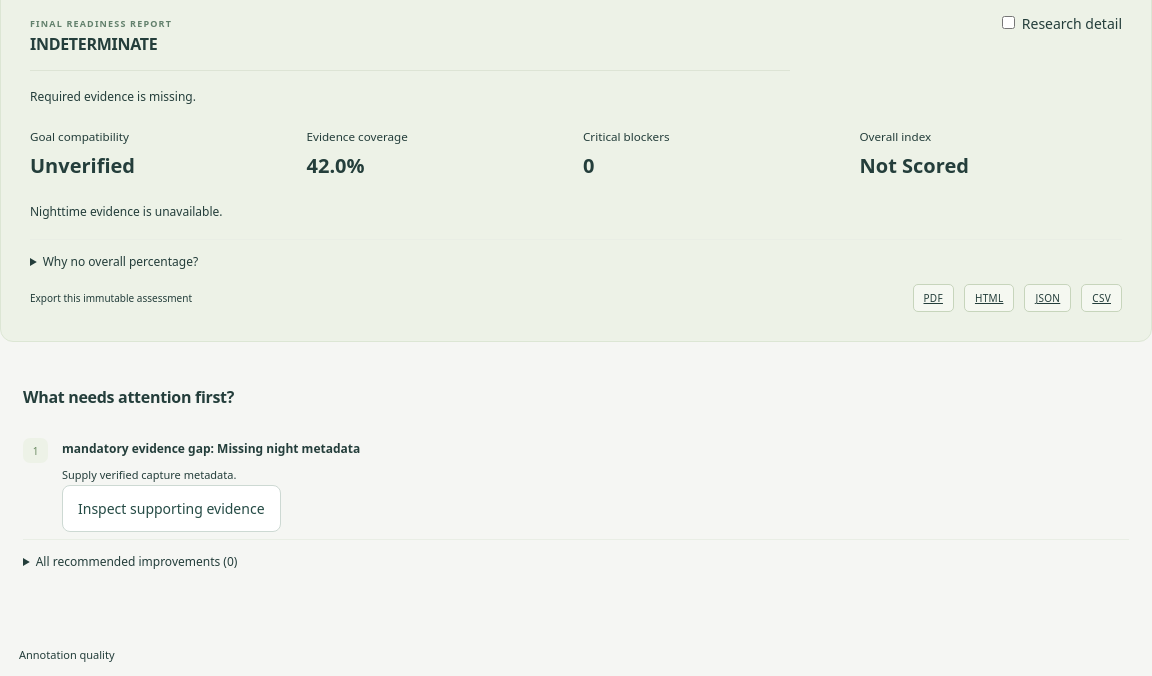
Test: leads with the conservative final verdict and links immutable exports plus separate outcomes
This screenshot has width=1152, height=676.
Expected: the heading "INDETERMINATE" is shown, [30, 33, 157, 55]
Expected: the text "42.0%" is shown, [306, 152, 364, 179]
Click the button "Inspect supporting evidence".
click(171, 508)  # box [62, 485, 280, 532]
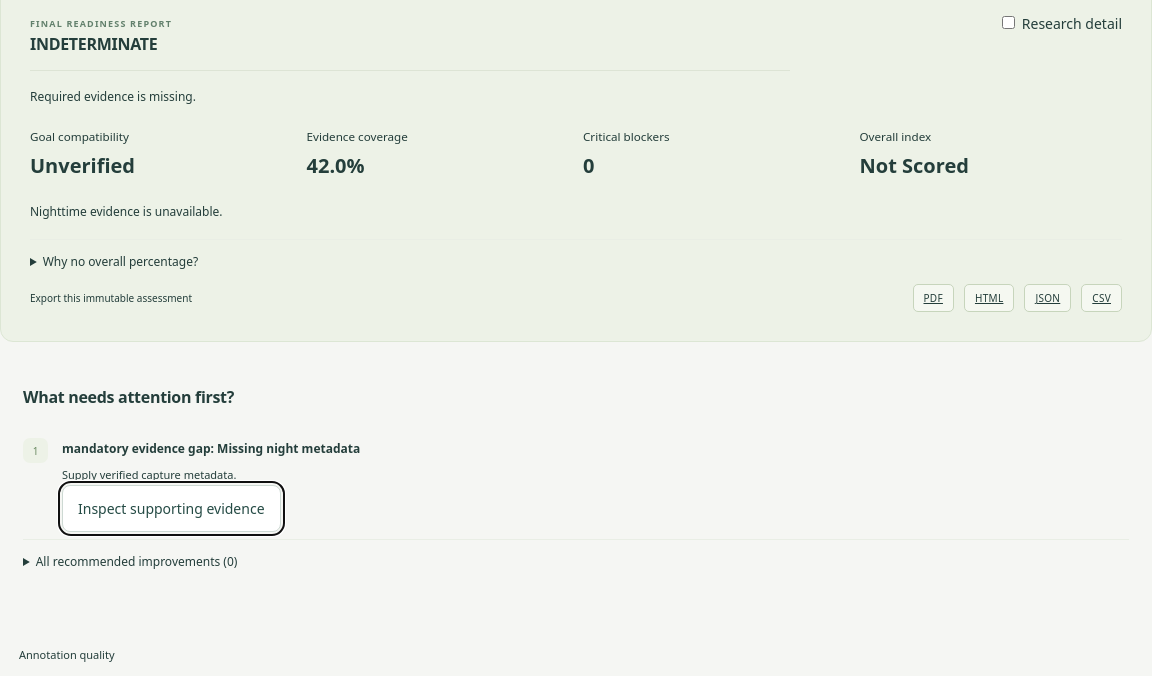
Click the checkbox labelled "Research detail".
click(1009, 22)  # box [1002, 16, 1015, 29]
(page scrolled)
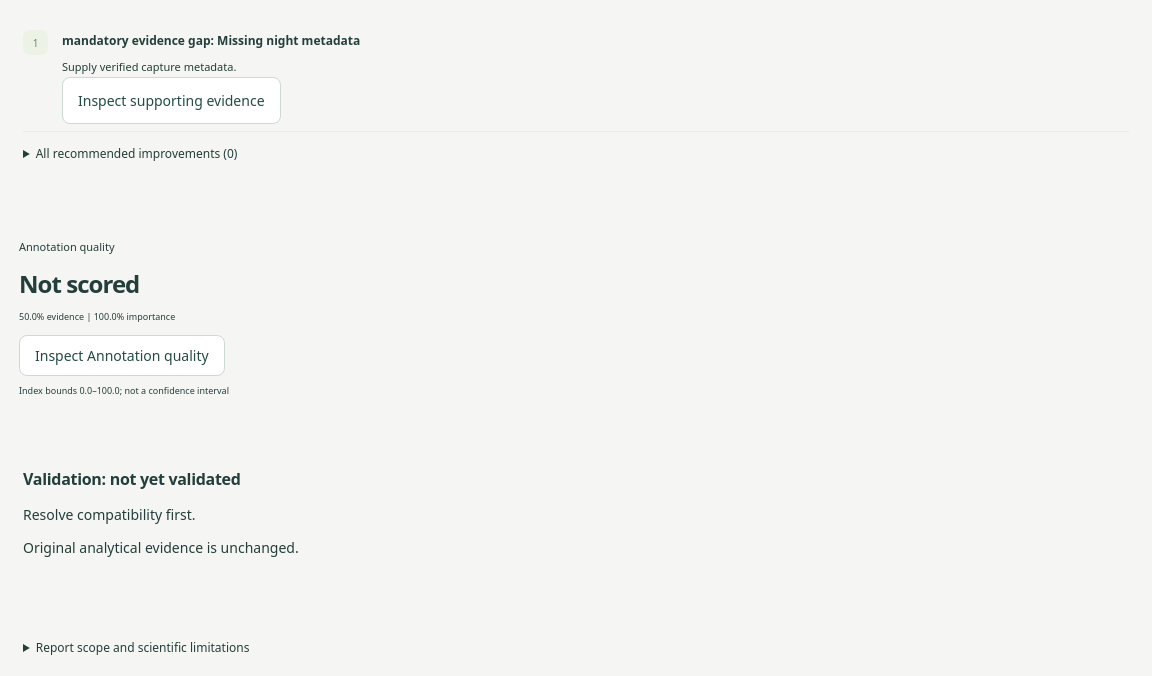
Expected: the text "Original analytical evidence is unchanged." is shown, [23, 538, 299, 557]
Now the text "Index bounds 0.0–100.0; not a confidence interval" is shown, box [19, 384, 229, 397]
